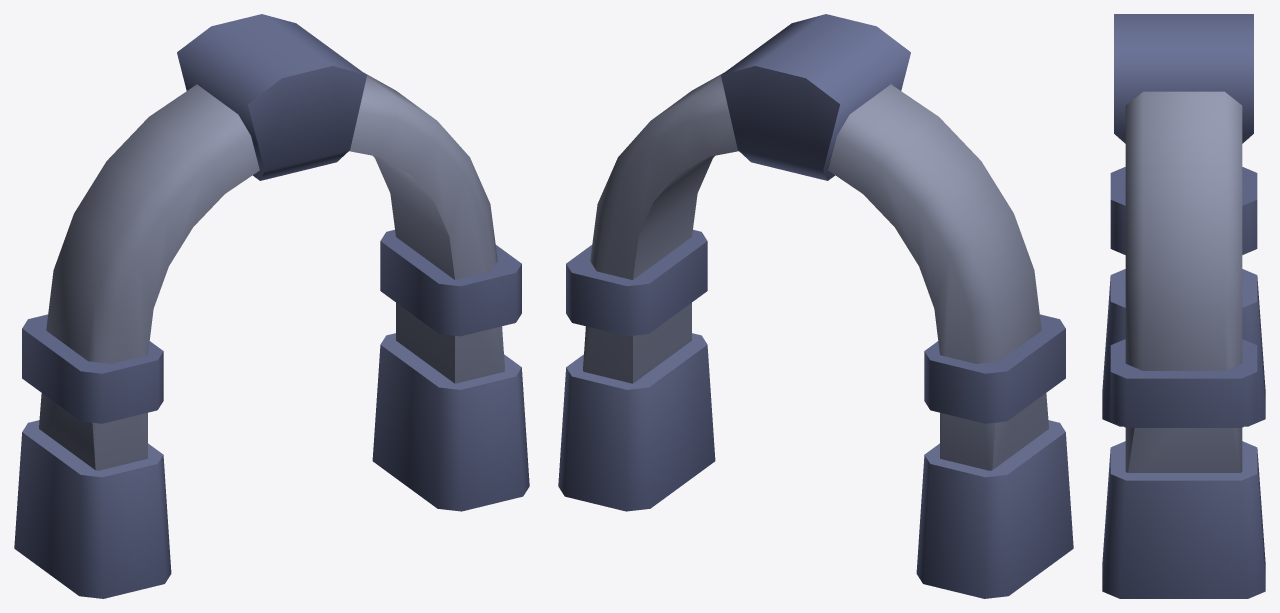
File: gate.fbx
The picture shows the model from 3 angles, left to right: view 1: azimuth 30°, elevation 25°; view 2: azimuth 150°, elevation 25°; view 3: azimuth 270°, elevation 25°; orthographic projection.
Parts seen in each view (by area): view 1: gate; view 2: gate; view 3: gate.
Boxes of the visible parts, x1,y1,x2,y2 form: gate: [14, 14, 529, 598]; gate: [558, 14, 1073, 598]; gate: [1102, 14, 1265, 598].
Size of the model in its own units: 440 by 440 by 140.
Materials: 1 (1 with a texture image).
